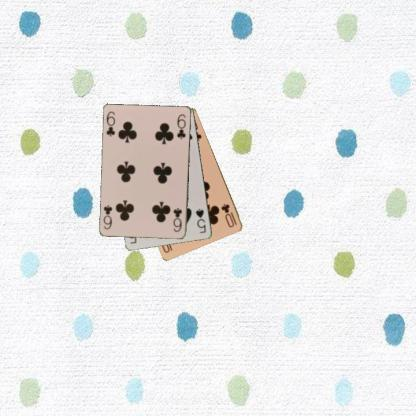10c: (219, 201, 238, 229)
5s: (192, 206, 208, 235)
6c: (171, 205, 183, 234), (104, 109, 116, 138)
